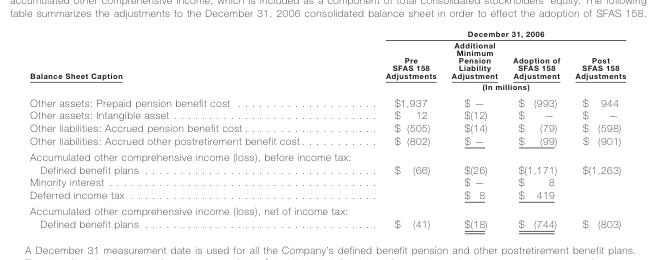table: (29, 28, 625, 229)
table column: (29, 28, 344, 229), (344, 28, 443, 229), (504, 28, 566, 229), (443, 28, 504, 229), (566, 28, 625, 229)
table column header: (29, 28, 625, 93)
table projected row header: (29, 202, 625, 217), (29, 148, 625, 162)
table row: (29, 38, 625, 80), (29, 93, 625, 108), (29, 133, 625, 148), (29, 187, 625, 202), (29, 202, 625, 217), (29, 148, 625, 162), (29, 80, 625, 93), (29, 108, 625, 121), (29, 162, 625, 175), (29, 121, 625, 133), (29, 175, 625, 187), (29, 217, 625, 229), (29, 28, 625, 38)
table spanning cell: (29, 28, 344, 93), (344, 80, 625, 93), (344, 28, 625, 38)
